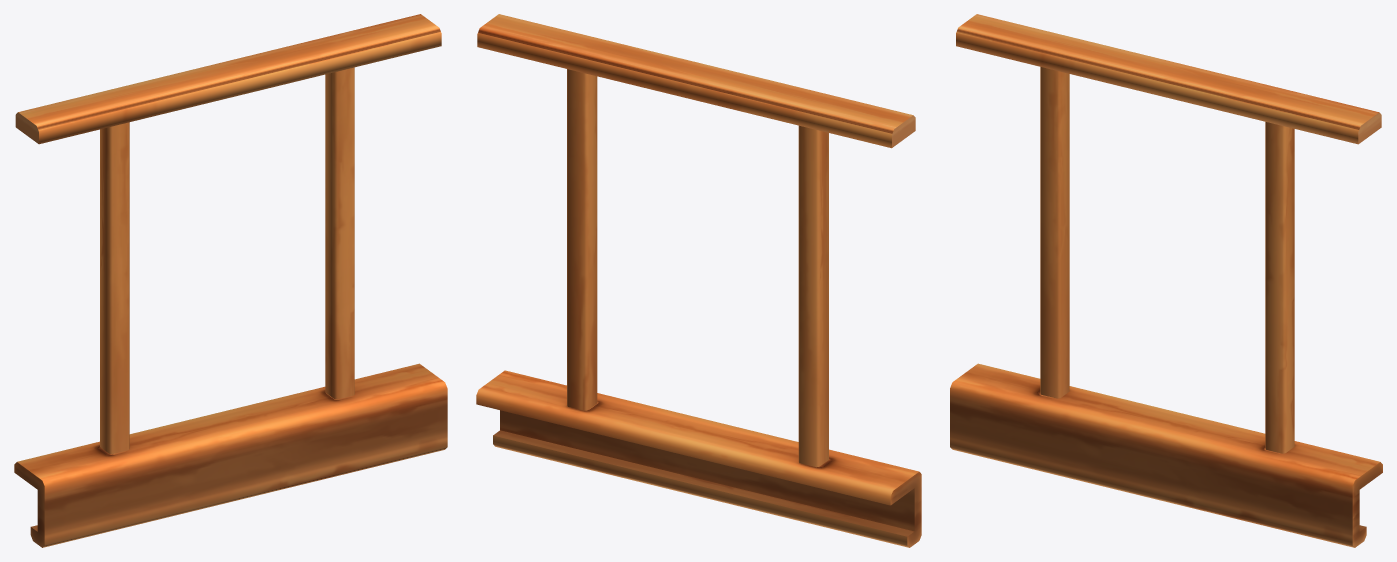
Rendered from PropStairs01PTypeA4.FBX.
3 renders of one model, left to right at view 1: azimuth 30°, elevation 25°; view 2: azimuth 150°, elevation 25°; view 3: azimuth 330°, elevation 25°, orthographic. The views are drawn at different scales.
Parts seen in each view (by area): view 1: PropStairs01PTypeA4; view 2: PropStairs01PTypeA4; view 3: PropStairs01PTypeA4.
Boxes of the visible parts, <box> form: PropStairs01PTypeA4: <box>14,14,447,547</box>; PropStairs01PTypeA4: <box>476,14,921,547</box>; PropStairs01PTypeA4: <box>950,14,1382,547</box>.
Size of what is drawn, in the model's own units: 1 by 0.9916 by 0.1303.
